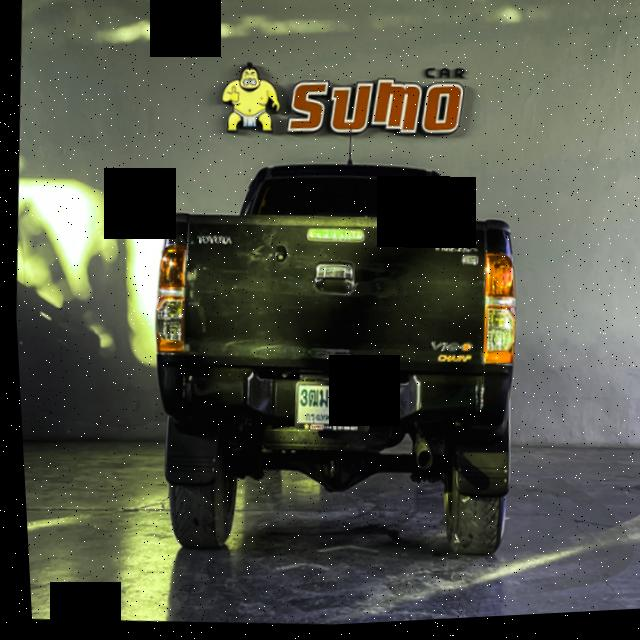text: (292, 384, 364, 430)
